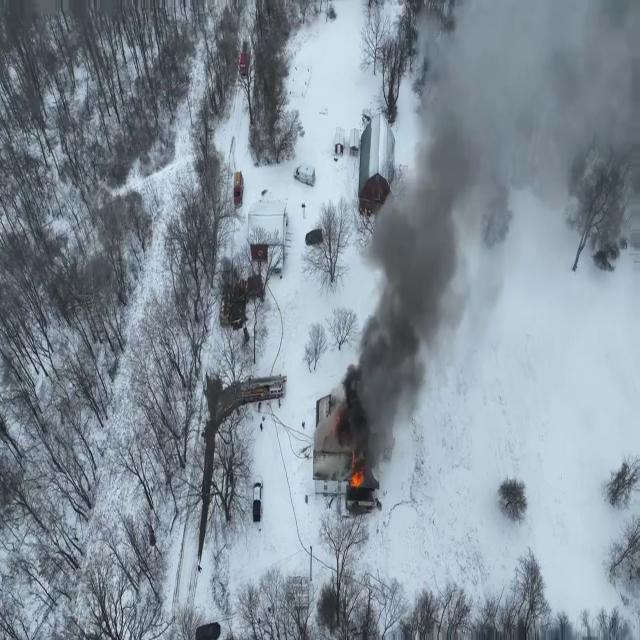Fire: (348, 460, 366, 496)
Smoke: (331, 0, 640, 445), (332, 3, 512, 449)
